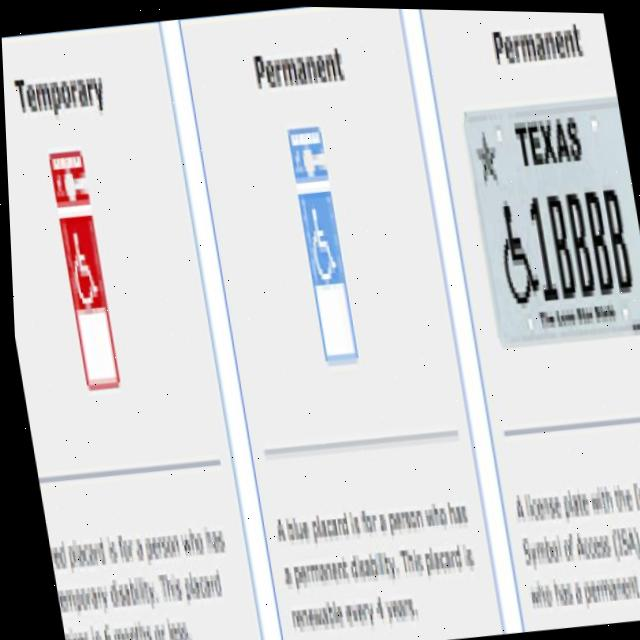symbol_of_access: (491, 188, 540, 306), (59, 225, 102, 320), (301, 201, 337, 285)
